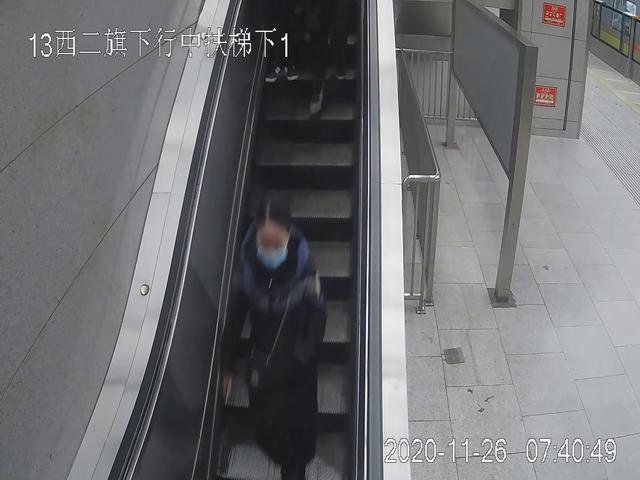person: (222, 198, 329, 480)
